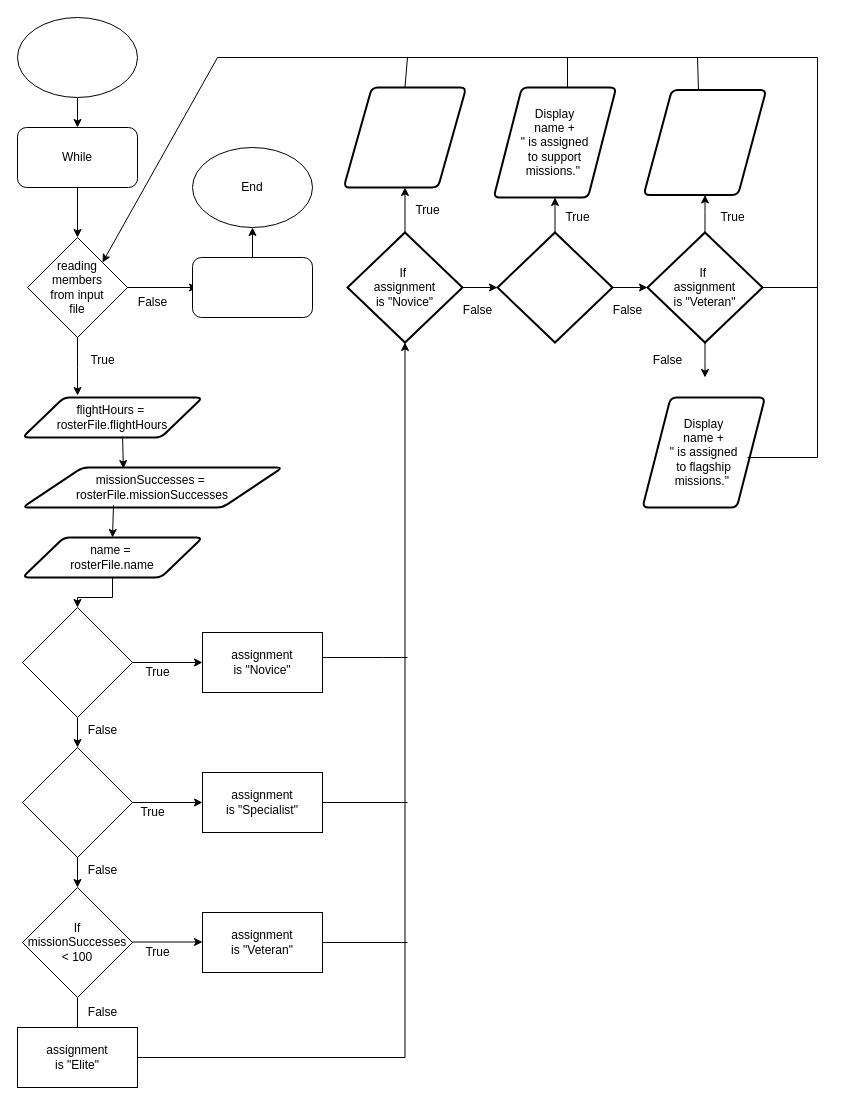
This 843x1105 diagram has some shape labels left out. The centre of each missing label's shape, as x and y in pixels:
Display name + " is assigned to high-profile missions.": (x=704, y=142)
Display name + " is not assigned to any missions.": (x=404, y=137)
End while: (x=252, y=287)
If assignment is "Specialist": (x=554, y=287)
If missionSuccesses < 50: (x=77, y=662)
If missionSuccesses < 75: (x=77, y=802)
Start: (x=77, y=57)
